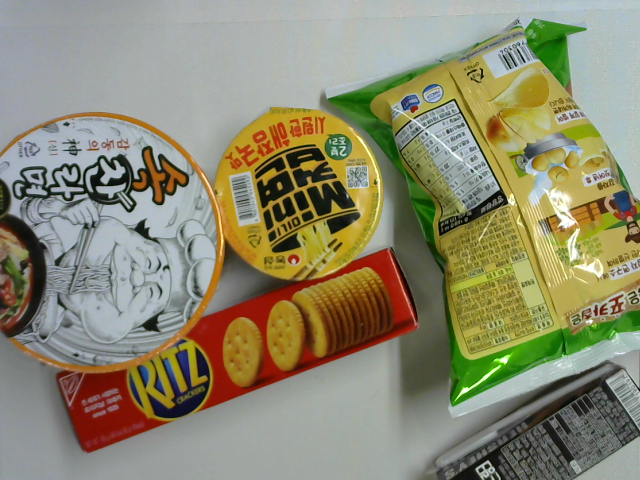Hejangchan: (1, 109, 225, 379)
Hejangmini: (211, 105, 385, 284)
Hush_Choco_Drink: (428, 362, 640, 479)
Pocachip_Onion: (321, 11, 640, 417)
Ritz_Cracker: (58, 244, 420, 461)
